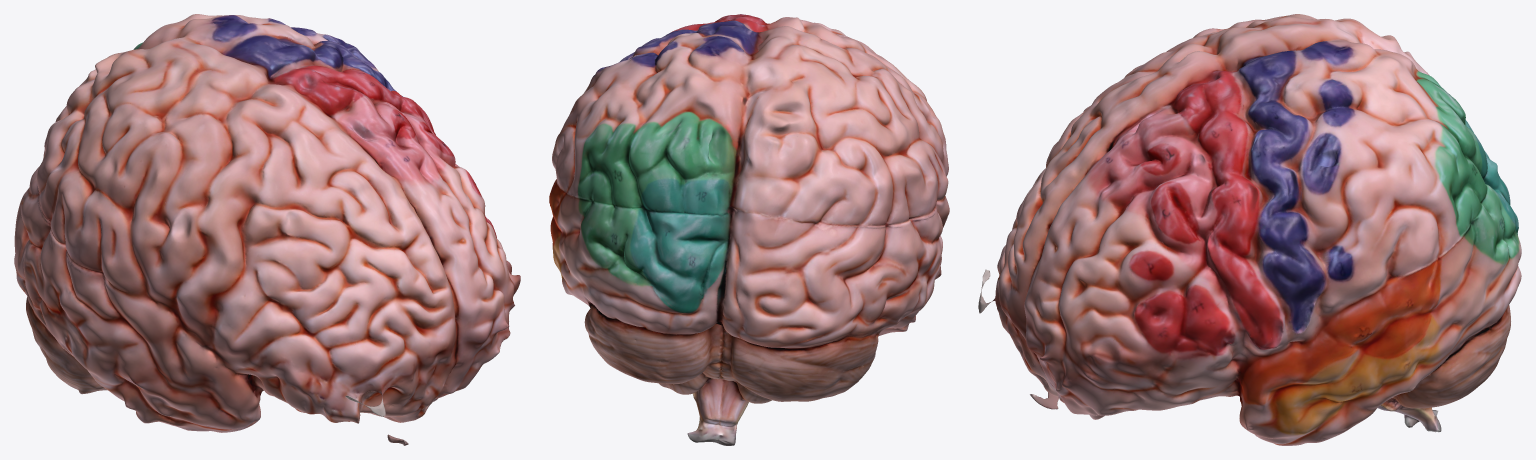
File: Brain_3DModel.glb
The picture shows the model from 3 angles, left to right: view 1: azimuth 30°, elevation 25°; view 2: azimuth 150°, elevation 25°; view 3: azimuth 270°, elevation 25°; orthographic projection. The views are drawn at different scales.
Parts seen in each view (by area): view 1: 3DModel; view 2: 3DModel; view 3: 3DModel.
Boxes of the visible parts, box(x1,y1,x2,y2) form: 3DModel: box(14, 14, 520, 445); 3DModel: box(549, 14, 949, 445); 3DModel: box(978, 14, 1521, 445).
Bounding box in the file's own units: 0.7996 × 0.7727 × 0.9395.
Materials: 1 (1 with a texture image).
